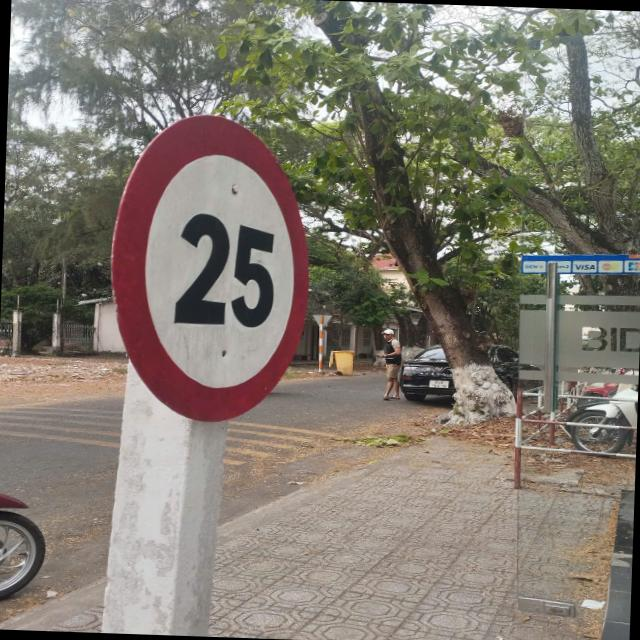Tre_Em: (103, 110, 316, 424)
